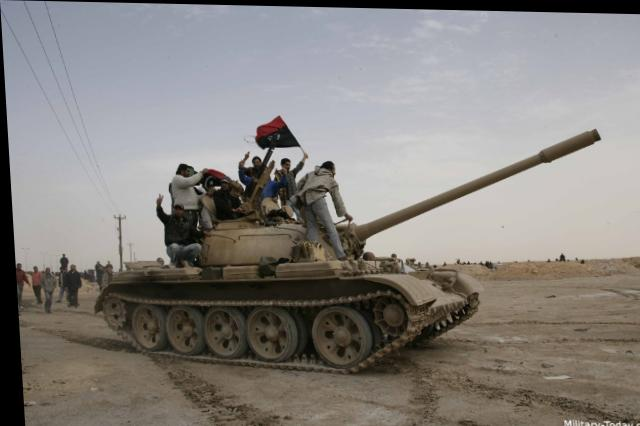other: (297, 156, 352, 253), (152, 193, 197, 267), (276, 151, 308, 203), (171, 162, 195, 222), (235, 150, 262, 189), (210, 176, 236, 212), (36, 265, 55, 311), (64, 263, 79, 306), (12, 261, 26, 304), (26, 264, 40, 303), (51, 266, 66, 301), (258, 164, 274, 196), (98, 264, 109, 286), (94, 264, 100, 289), (55, 252, 65, 265), (92, 259, 98, 280), (85, 267, 91, 280), (153, 256, 163, 263), (101, 258, 109, 265), (79, 268, 84, 278)
tank: (87, 118, 609, 370)
